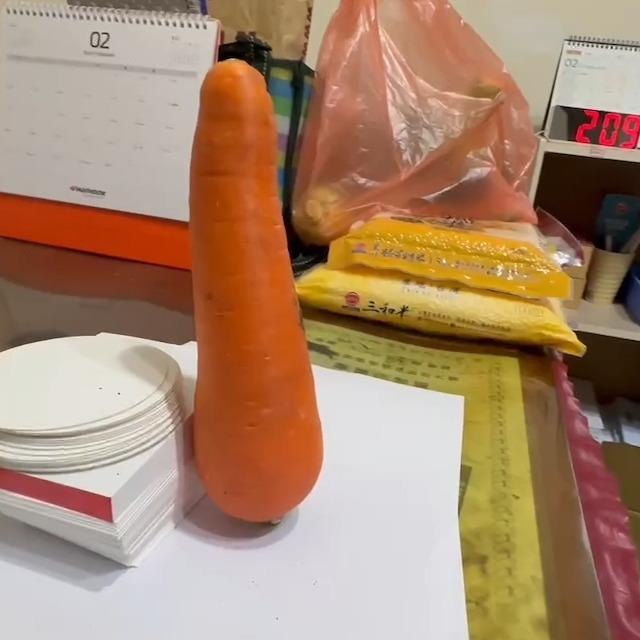carrot: (178, 57, 328, 529)
